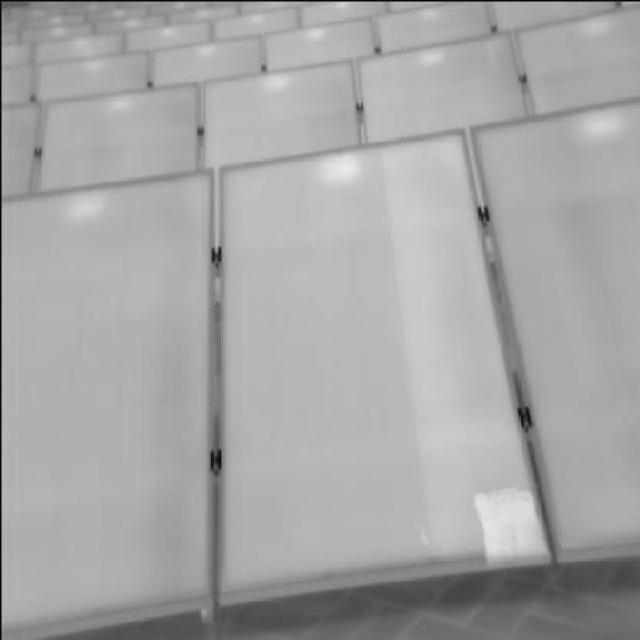hotspot: (471, 485, 551, 566), (316, 144, 359, 188)
